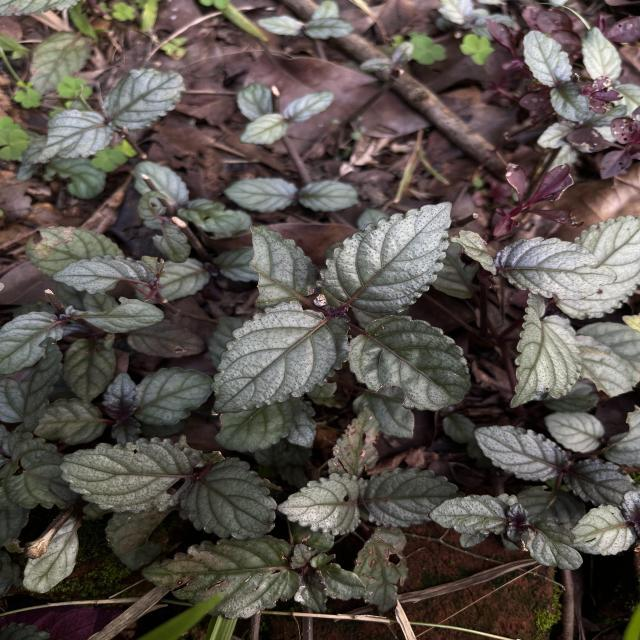Hemigraphis colorata: (205, 297, 359, 417), (312, 196, 454, 318), (136, 531, 304, 622), (345, 312, 473, 414), (57, 434, 202, 516), (507, 287, 584, 410), (177, 454, 281, 542), (493, 234, 620, 302), (274, 468, 368, 542), (472, 421, 572, 484), (134, 364, 216, 428), (1, 308, 65, 378), (59, 294, 168, 335), (422, 492, 516, 538), (568, 503, 638, 557), (99, 371, 142, 422)
